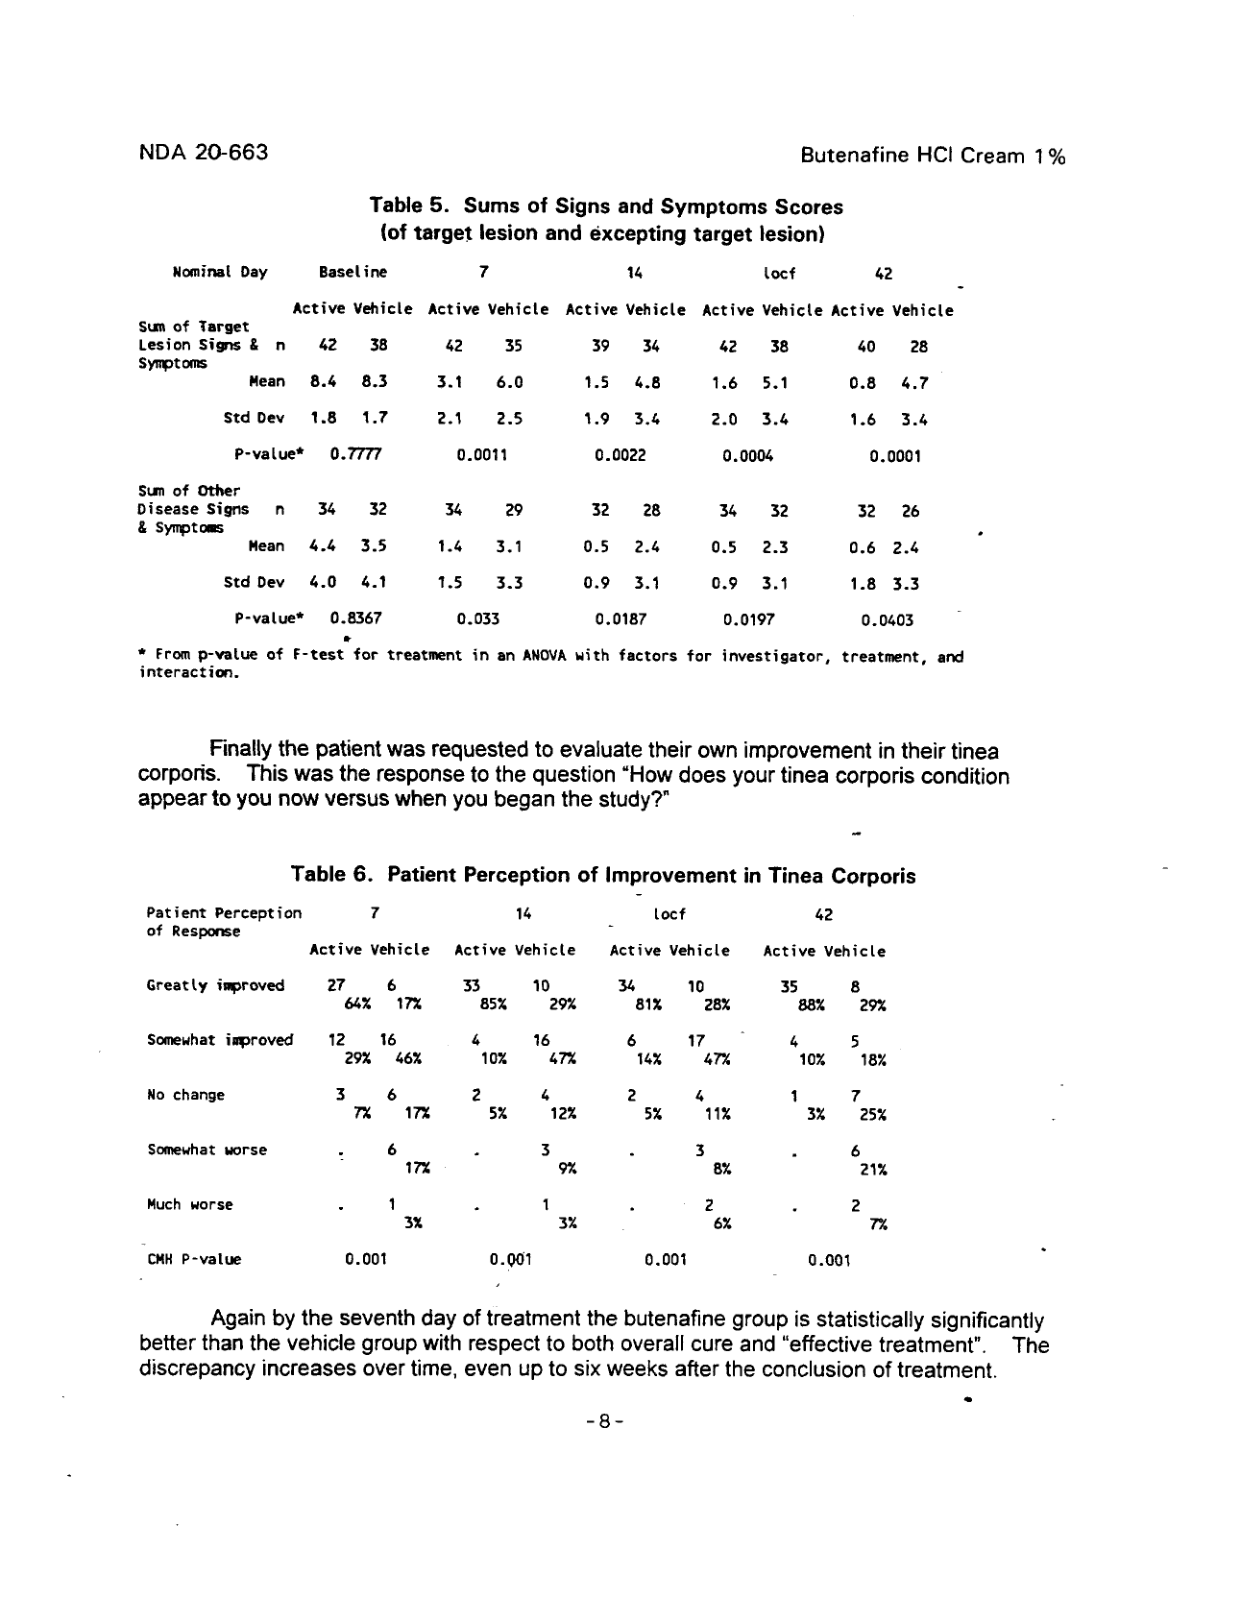nolines: (136, 260, 956, 632), (144, 905, 891, 1271)
